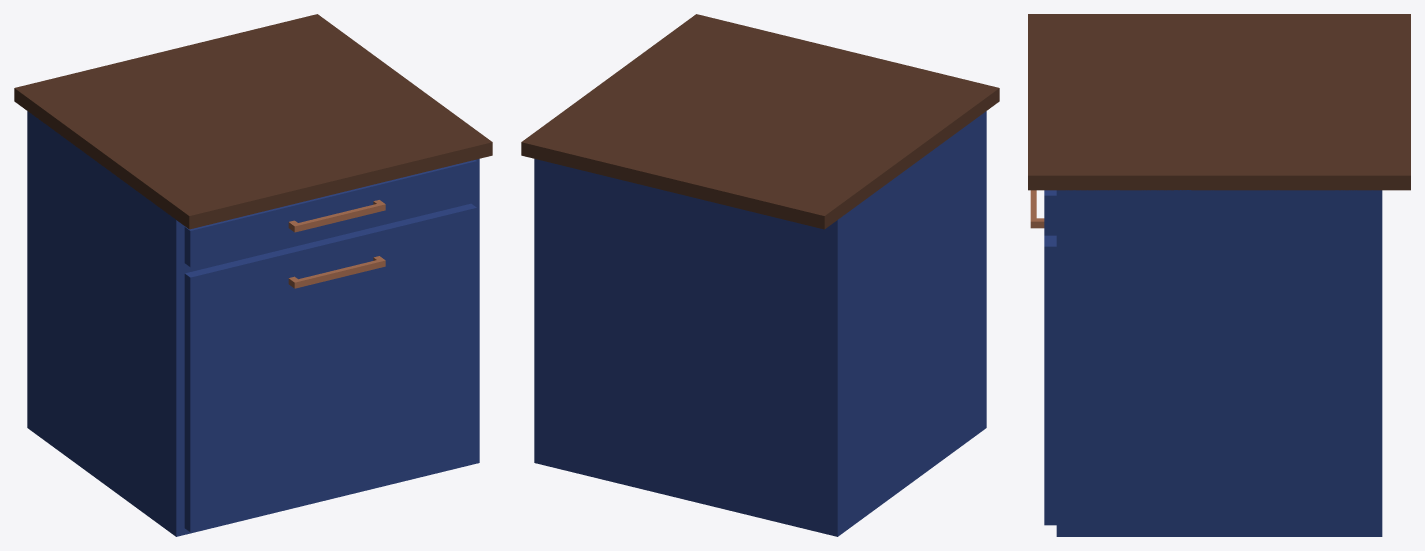
File: drawer_3.fbx
3 views of the same model, side by side, from view 1: azimuth 30°, elevation 25°; view 2: azimuth 150°, elevation 25°; view 3: azimuth 270°, elevation 25° (orthographic). The views are drawn at different scales.
Parts seen in each view (by area): view 1: Cube_4_2, Cube_4, Cube_5, Cube_1, Cube_2, Cube; view 2: Cube_5, Cube_4; view 3: Cube_5, Cube_4, Cube_4_2, Cube_1.
Boxes of the visible parts, x1,y1,x2,y2 form: Cube_4_2: (184, 203, 476, 532); Cube_4: (14, 14, 492, 229); Cube_5: (27, 111, 479, 536); Cube_1: (184, 160, 476, 267); Cube_2: (288, 200, 385, 232); Cube: (288, 256, 385, 288); Cube_5: (534, 111, 986, 536); Cube_4: (521, 14, 999, 229); Cube_5: (1056, 190, 1382, 536); Cube_4: (1028, 14, 1410, 190); Cube_4_2: (1044, 235, 1056, 525); Cube_1: (1044, 190, 1056, 235).
Bounding box in the file's own units: 200 × 208 × 200.
